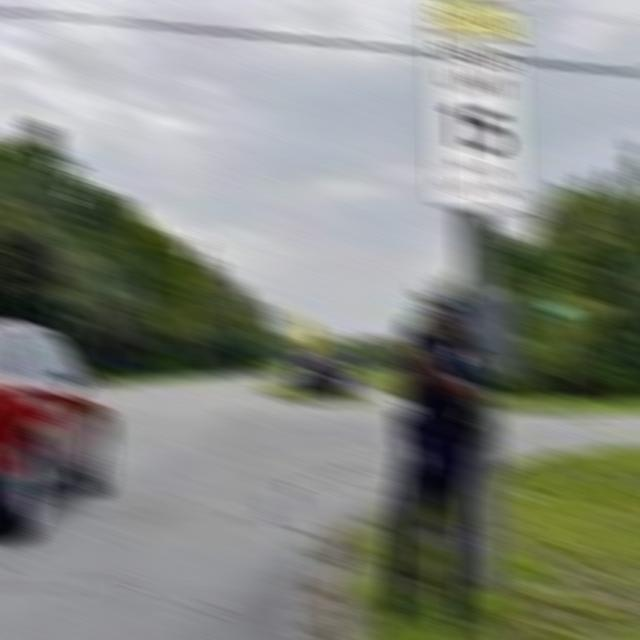speedLimit15: (424, 23, 526, 157)
